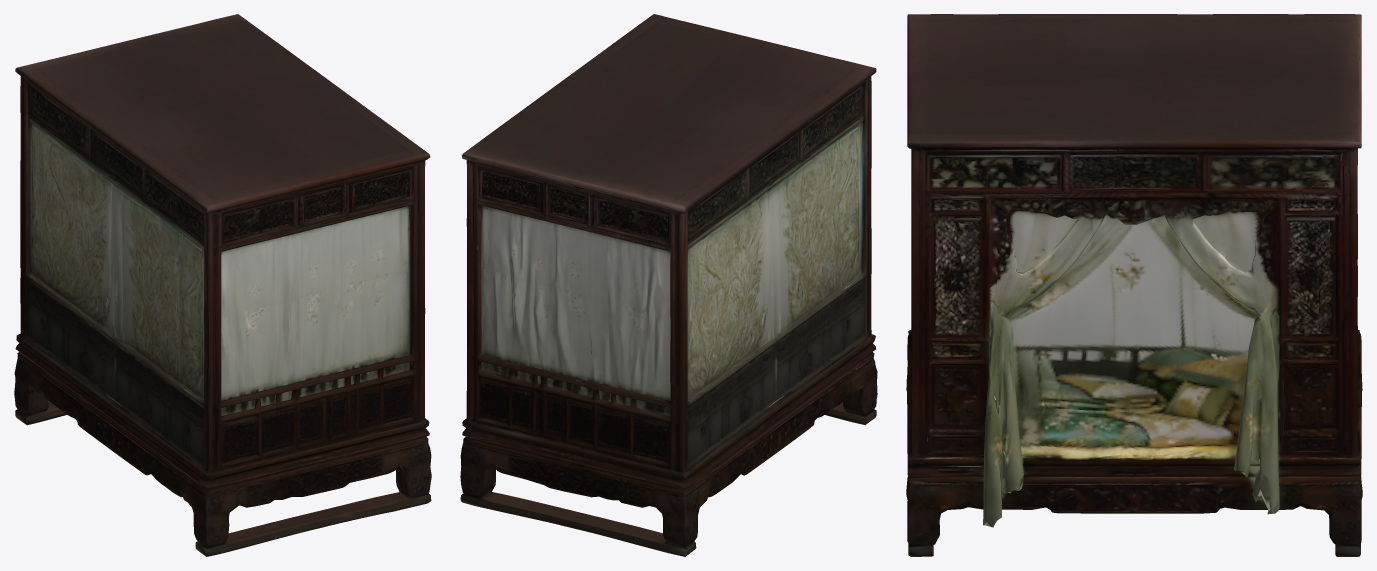
Rendered from f_babuchuang.glb.
The picture shows the model from 3 angles, left to right: view 1: azimuth 30°, elevation 25°; view 2: azimuth 150°, elevation 25°; view 3: azimuth 270°, elevation 25°; orthographic projection. The views are drawn at different scales.
Visible parts, largest first — view 1: tripo_node_dc948ec3-a365-4532-89f1-8636656824a2; view 2: tripo_node_dc948ec3-a365-4532-89f1-8636656824a2; view 3: tripo_node_dc948ec3-a365-4532-89f1-8636656824a2.
Boxes of the visible parts, x1,y1,x2,y2 form: tripo_node_dc948ec3-a365-4532-89f1-8636656824a2: (14, 14, 431, 556); tripo_node_dc948ec3-a365-4532-89f1-8636656824a2: (460, 14, 877, 556); tripo_node_dc948ec3-a365-4532-89f1-8636656824a2: (906, 14, 1362, 556).
Bounding box in the file's own units: 0.7141 × 1 × 0.9927.
1 material, 1 textured.
